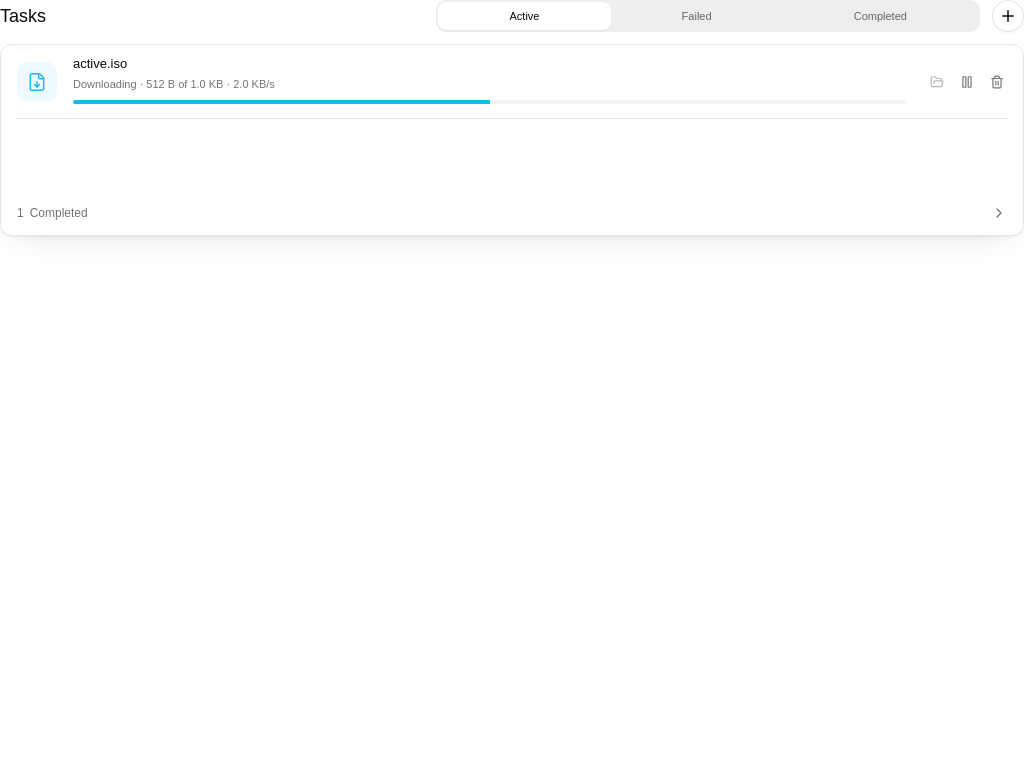
Test: ControlPanel task views › preselects file deletion when the remove action is shift-clicked
Step 1. Click the button named "Remove active.iso" → (997, 82), box x1=983 y1=68 x2=1011 y2=96
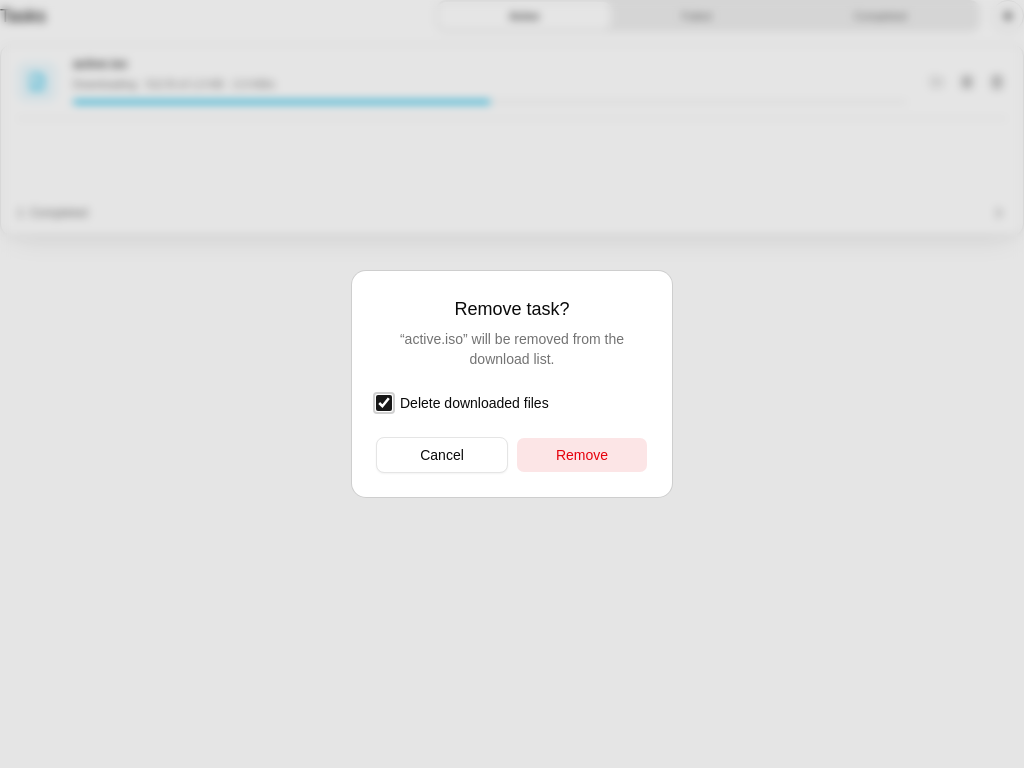
Now the checkbox labelled "Delete downloaded files" is checked, box x1=376 y1=395 x2=392 y2=411
